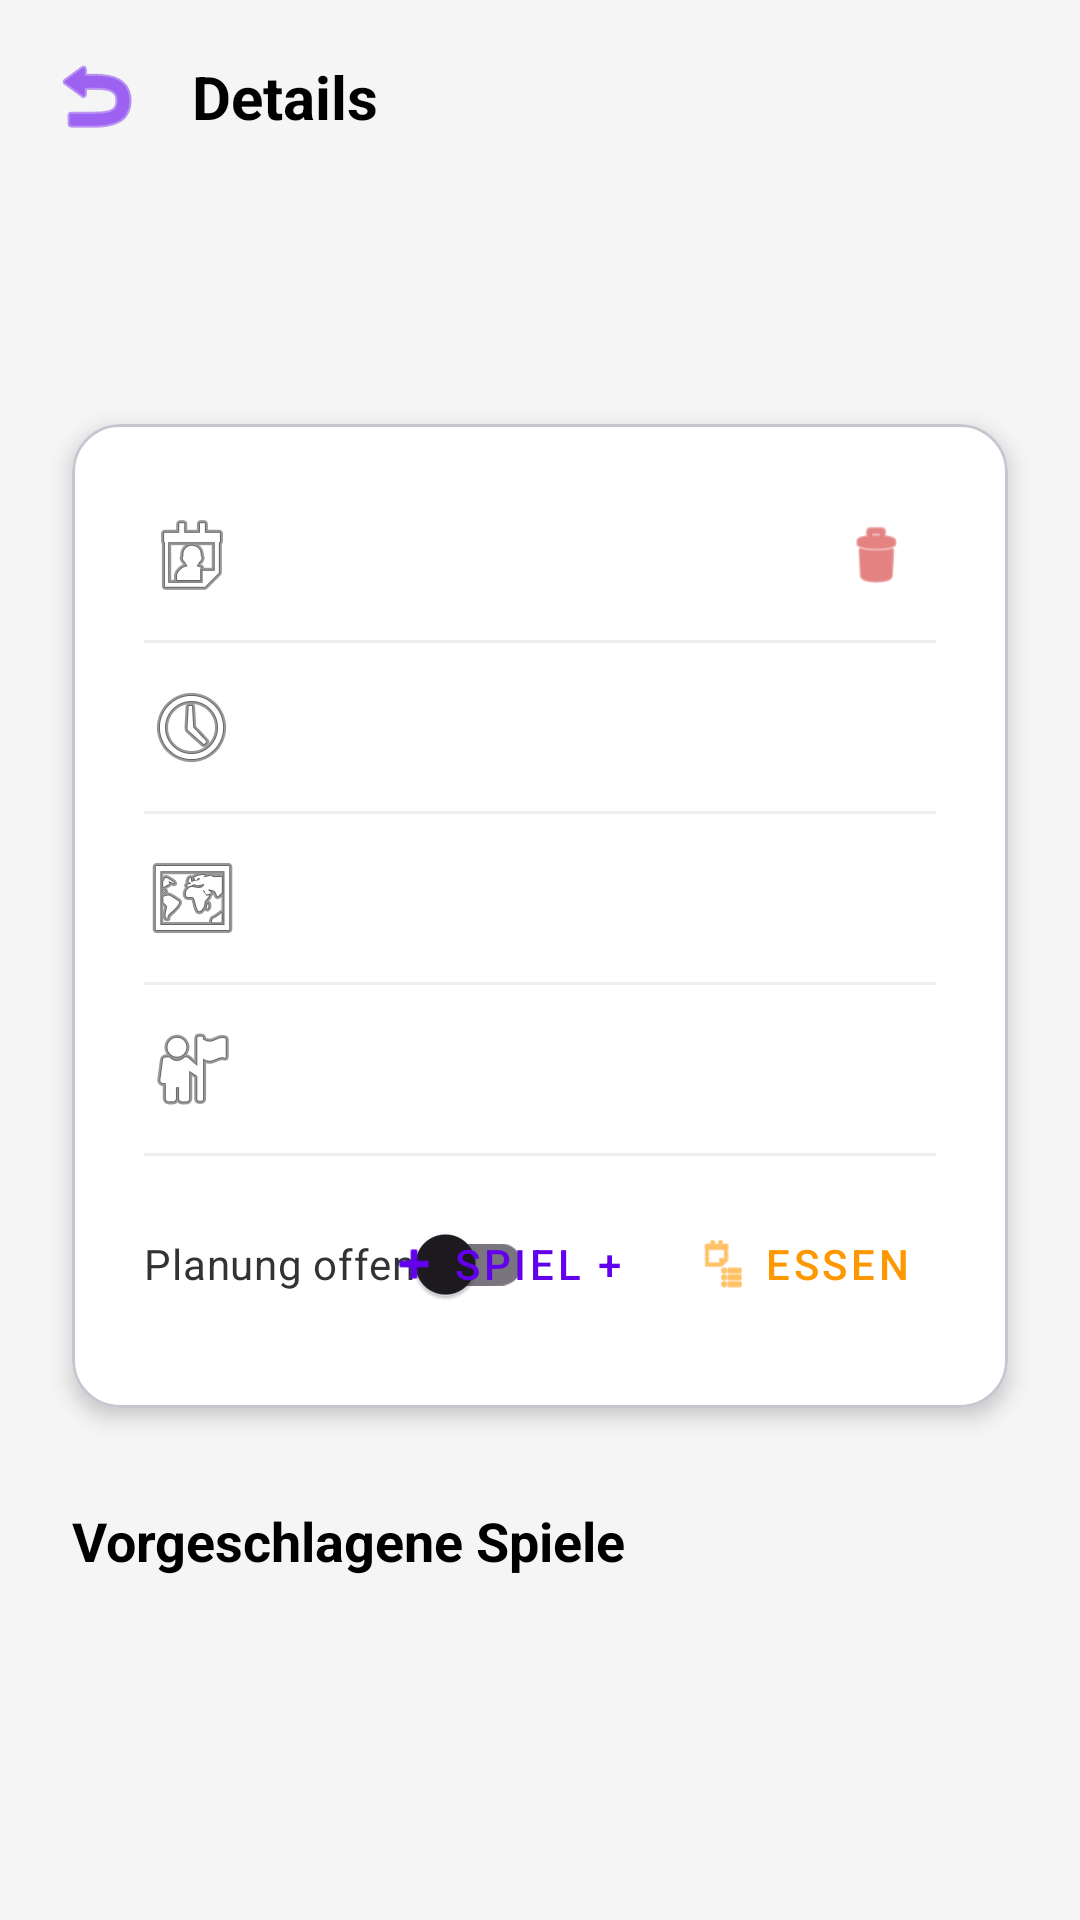

Icons on this 1080px×1920px Android screen, each with the point to tap as [x,y]:
delete: [876,555]
Zurück: [97,96]
